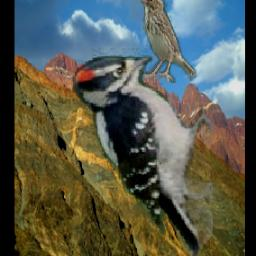Sparrow: (141, 0, 197, 83)
Woodpecker: (72, 48, 213, 256)
